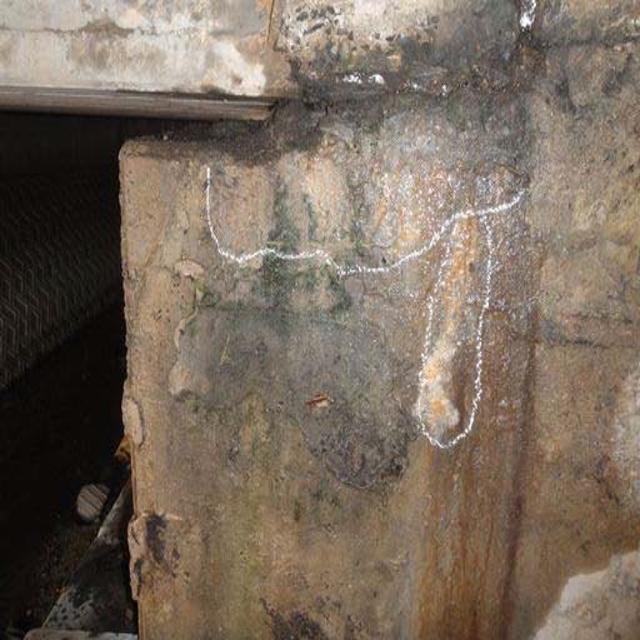freelime: (412, 201, 494, 453)
